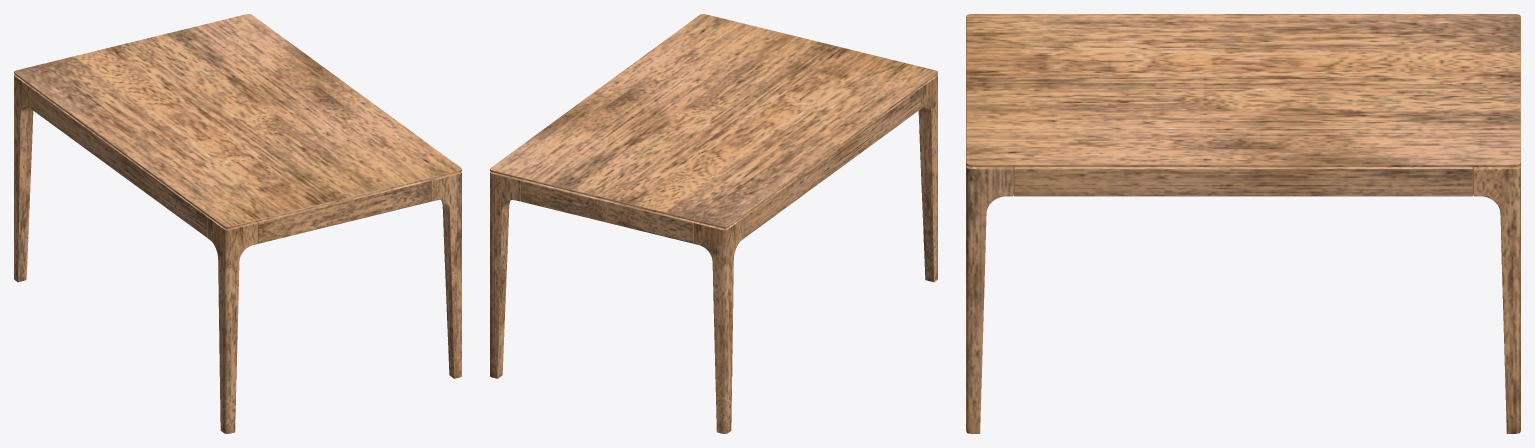
The model's file is DiningTable.fbx.
The picture shows the model from 3 angles, left to right: view 1: azimuth 30°, elevation 25°; view 2: azimuth 150°, elevation 25°; view 3: azimuth 270°, elevation 25°; orthographic projection. The views are drawn at different scales.
Parts seen in each view (by area): view 1: DiningTable; view 2: DiningTable; view 3: DiningTable.
Boxes of the visible parts, x1,y1,x2,y2 form: DiningTable: (14, 14, 461, 433); DiningTable: (490, 14, 937, 433); DiningTable: (966, 14, 1520, 433).
Bounding box in the file's own units: 90 × 140 × 75.03.
Materials: 1 (1 with a texture image).
